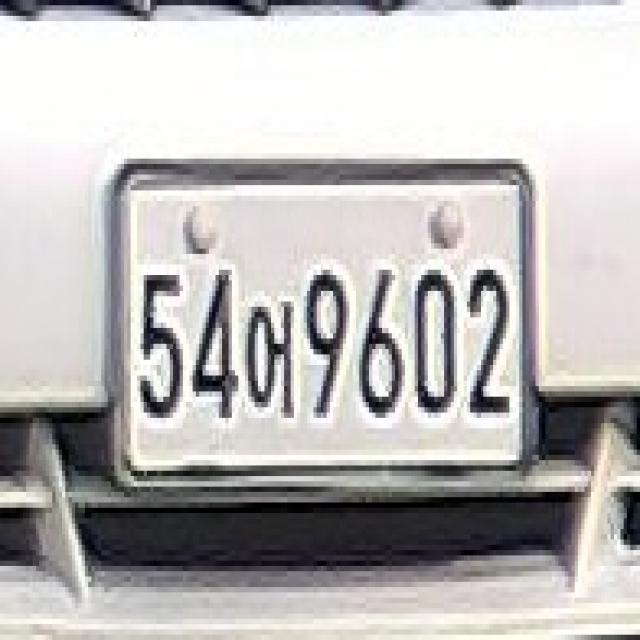0: (408, 244, 464, 428)
2: (467, 254, 513, 428)
4: (186, 259, 238, 413)
5: (141, 265, 186, 423)
6: (359, 259, 408, 429)
9: (304, 248, 349, 428)
eo: (238, 286, 298, 418)
license_plate: (104, 158, 548, 502)
